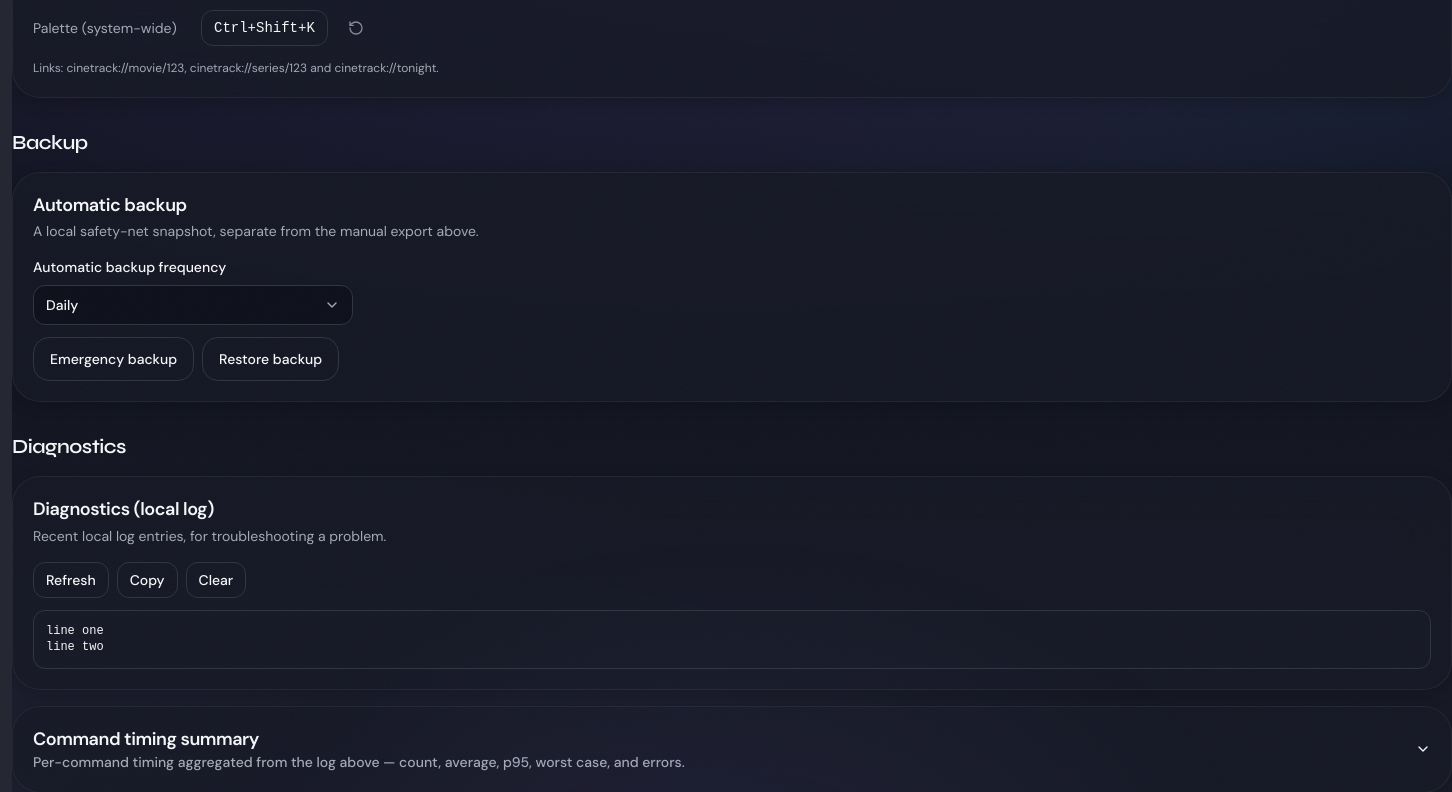
DesktopSettings › diagnostics › renders the log lines in a <pre> when present, and the empty placeholder otherwise
The width and height of the screenshot is (1452, 792).
(page scrolled)
Click the button "Refresh" at (71, 580), box [33,562,109,598]
(page scrolled)
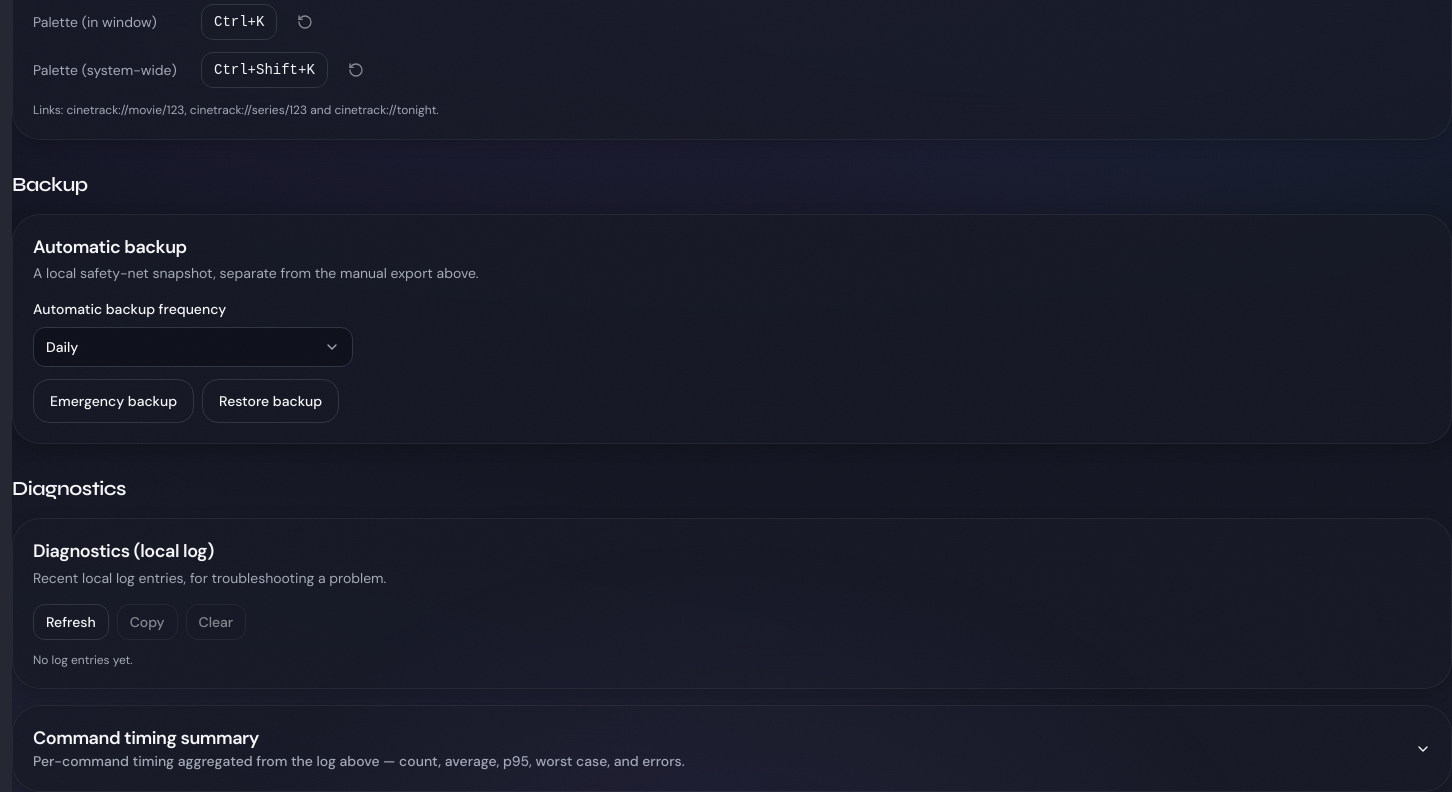
Now the text "No log entries yet." is shown, box [33,652,133,668]
